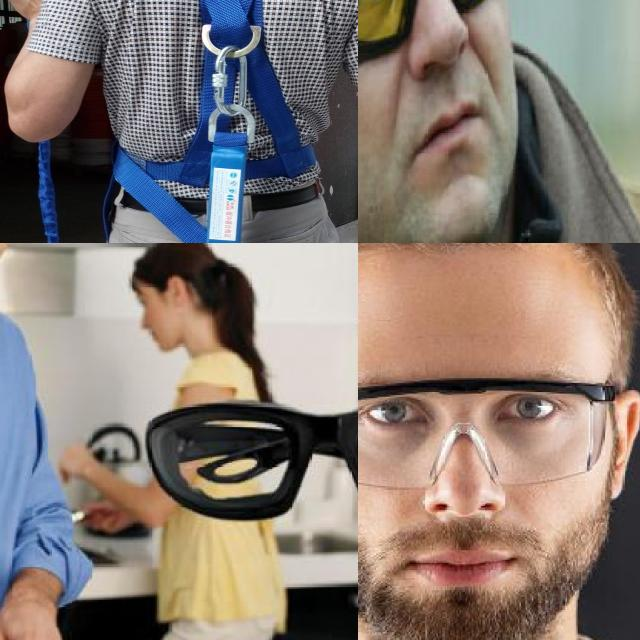Harness: (128, 0, 326, 243)
face_nomask: (358, 378, 570, 605), (358, 0, 527, 187), (131, 292, 180, 355)
glasses: (358, 373, 616, 490), (358, 0, 511, 53)
hand_noglove: (0, 599, 81, 640), (82, 490, 138, 539), (51, 436, 96, 482)
head_nohelmet: (358, 243, 615, 303), (122, 243, 214, 287)
person: (108, 243, 299, 640), (0, 243, 88, 640)
